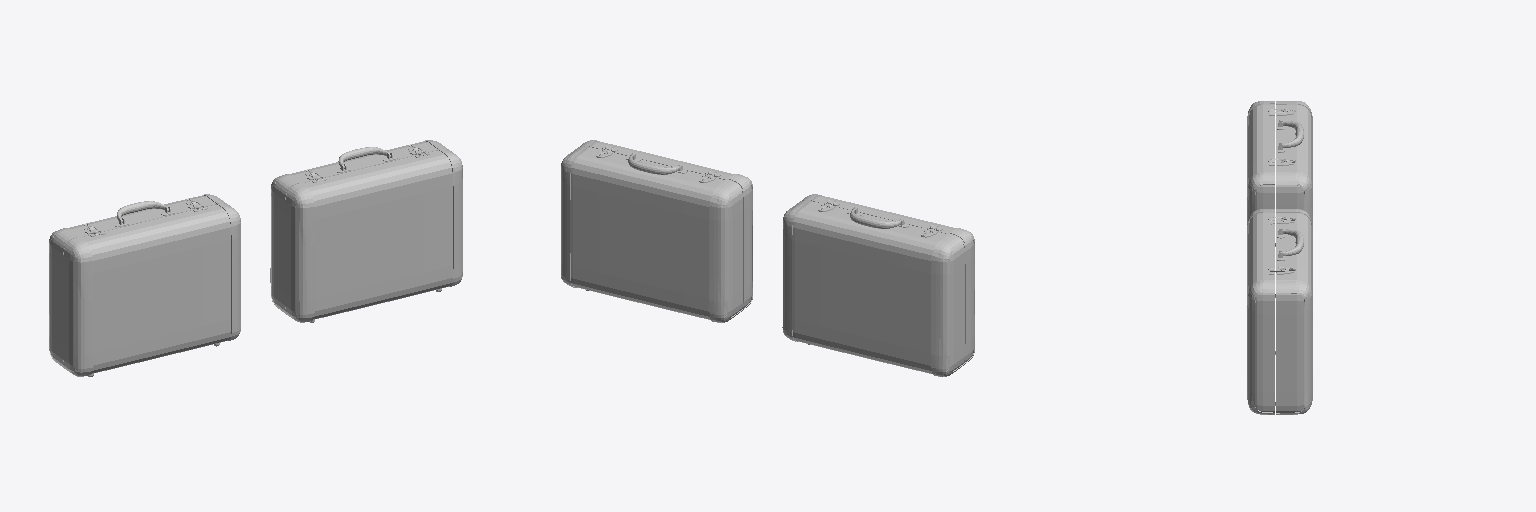
File: vintage_suitcase_4k.obj
3 renders of one model, left to right at view 1: azimuth 30°, elevation 25°; view 2: azimuth 150°, elevation 25°; view 3: azimuth 270°, elevation 25°, orthographic.
Visible parts, largest first — view 1: vintage_suitcase_02_top, vintage_suitcase_01_top, vintage_suitcase_01_bottom, vintage_suitcase_02_bottom; view 2: vintage_suitcase_02_bottom, vintage_suitcase_01_bottom, vintage_suitcase_01_top, vintage_suitcase_02_top; view 3: vintage_suitcase_01_bottom, vintage_suitcase_01_top, vintage_suitcase_02_bottom, vintage_suitcase_02_top.
Part boxes in pixels (left/top/right/bottom): vintage_suitcase_02_top: left=63, top=203, right=240, bottom=376; vintage_suitcase_01_top: left=285, top=149, right=462, bottom=322; vintage_suitcase_01_bottom: left=270, top=140, right=451, bottom=314; vintage_suitcase_02_bottom: left=49, top=194, right=229, bottom=368; vintage_suitcase_02_bottom: left=782, top=200, right=964, bottom=376; vintage_suitcase_01_bottom: left=561, top=146, right=742, bottom=322; vintage_suitcase_01_top: left=580, top=140, right=752, bottom=311; vintage_suitcase_02_top: left=802, top=194, right=974, bottom=365; vintage_suitcase_01_bottom: left=1275, top=209, right=1312, bottom=414; vintage_suitcase_01_top: left=1247, top=209, right=1275, bottom=414; vintage_suitcase_02_bottom: left=1275, top=101, right=1312, bottom=297; vintage_suitcase_02_top: left=1247, top=101, right=1275, bottom=296.
Size of the model in its own units: 1.61 by 0.5679 by 0.2392.